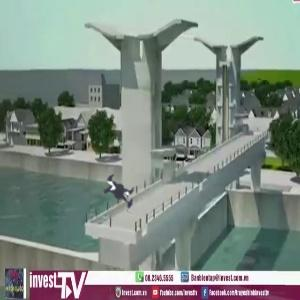drone: (83, 156, 157, 230)
